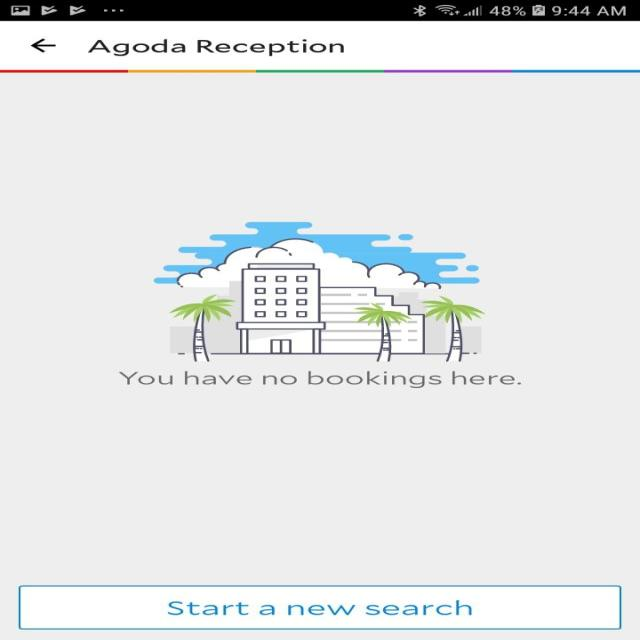Icon: (30, 38, 56, 53)
Image: (153, 222, 487, 362)
Text: (118, 370, 521, 388), (87, 38, 344, 56)
TextButton: (18, 584, 622, 630)
